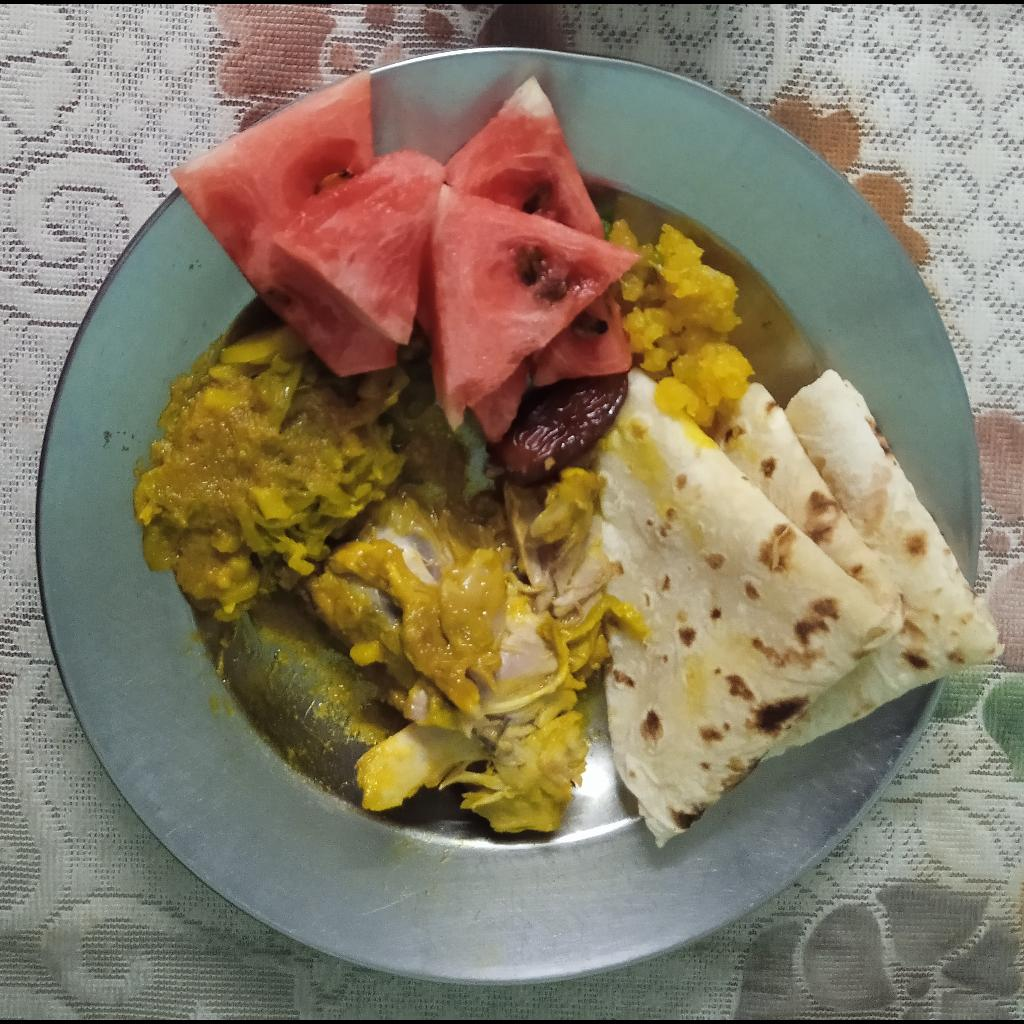burinda: (610, 221, 755, 425)
chicken: (308, 464, 606, 836)
dates: (503, 374, 629, 482)
ruti: (603, 367, 1003, 848)
vegetable: (137, 328, 404, 625)
watermelon: (169, 69, 640, 446)
